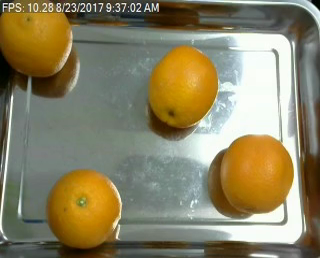Orange: (47, 168, 124, 249), (220, 134, 294, 213), (148, 44, 218, 127), (1, 1, 75, 77)
